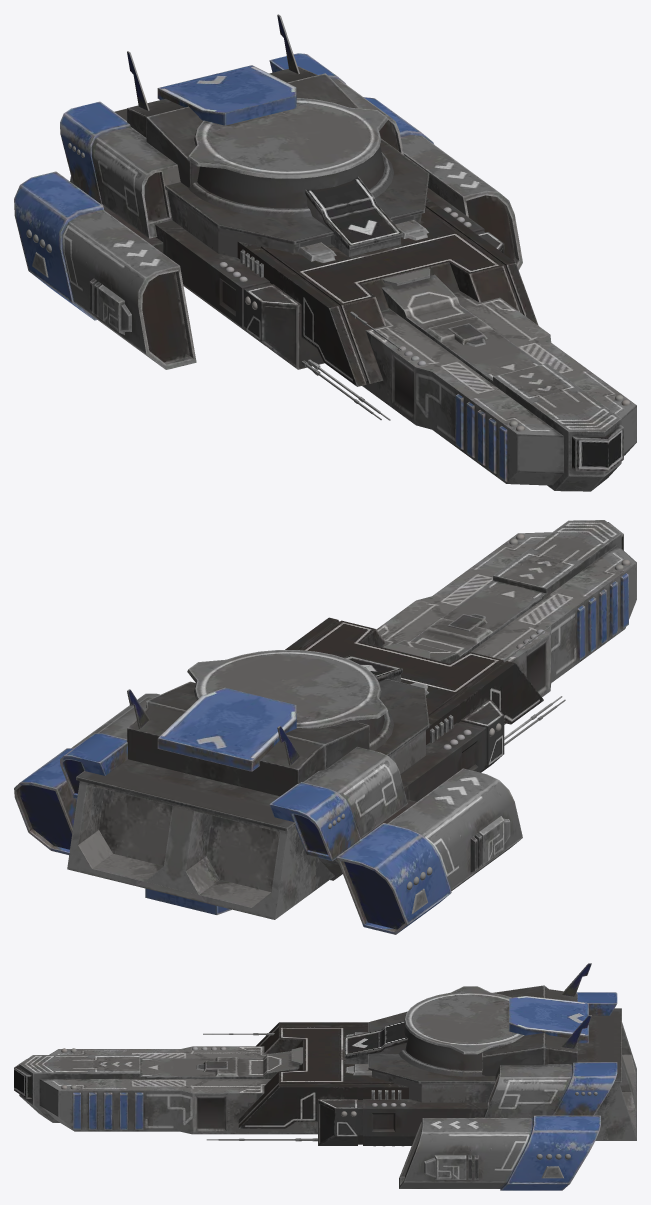
File: Insurgent.glb
3 renders of one model, top to bottom at view 1: azimuth 30°, elevation 25°; view 2: azimuth 150°, elevation 25°; view 3: azimuth 270°, elevation 25°, orthographic. The views are drawn at different scales.
Visible parts, largest first — view 1: Insurgent; view 2: Insurgent; view 3: Insurgent.
Part boxes in pixels (box(x1,y1,x2,y2)): Insurgent: box(14, 14, 636, 491); Insurgent: box(14, 520, 636, 934); Insurgent: box(14, 963, 636, 1190).
Bounding box in the file's own units: 0.5082 × 0.2621 × 1.
1 material, 1 textured.
